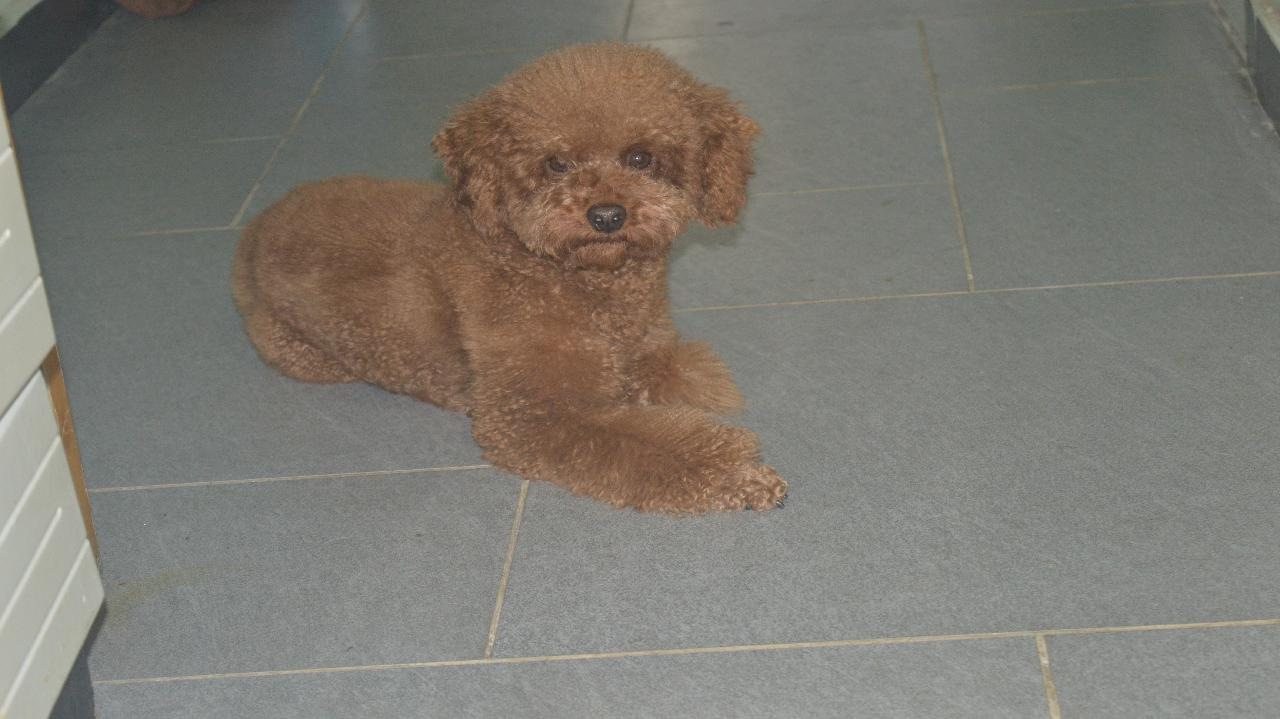zhuangzhuang: (236, 34, 827, 521)
